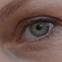eye: (31, 23, 49, 36)
